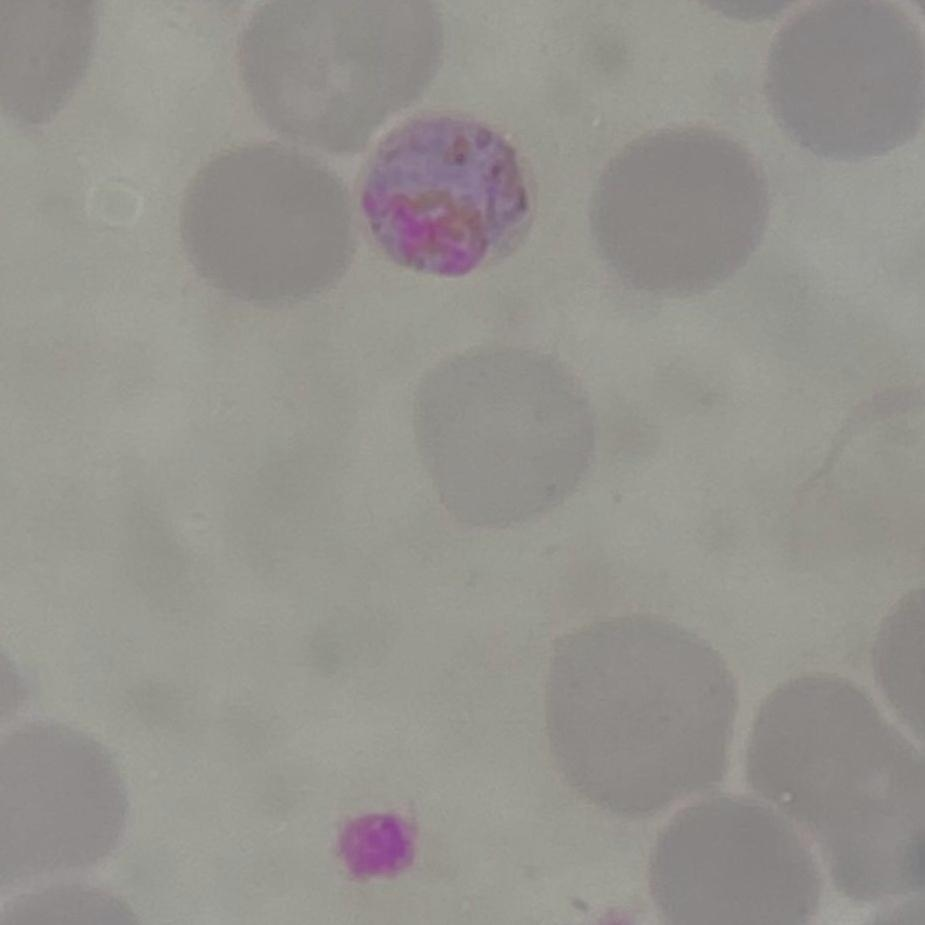Infected: (360, 108, 536, 284)
Uninfected: (752, 668, 925, 899), (548, 613, 738, 817), (410, 348, 596, 529), (243, 0, 441, 150), (588, 128, 766, 289), (180, 143, 354, 304), (769, 0, 925, 157), (0, 718, 129, 889), (647, 803, 824, 925)
